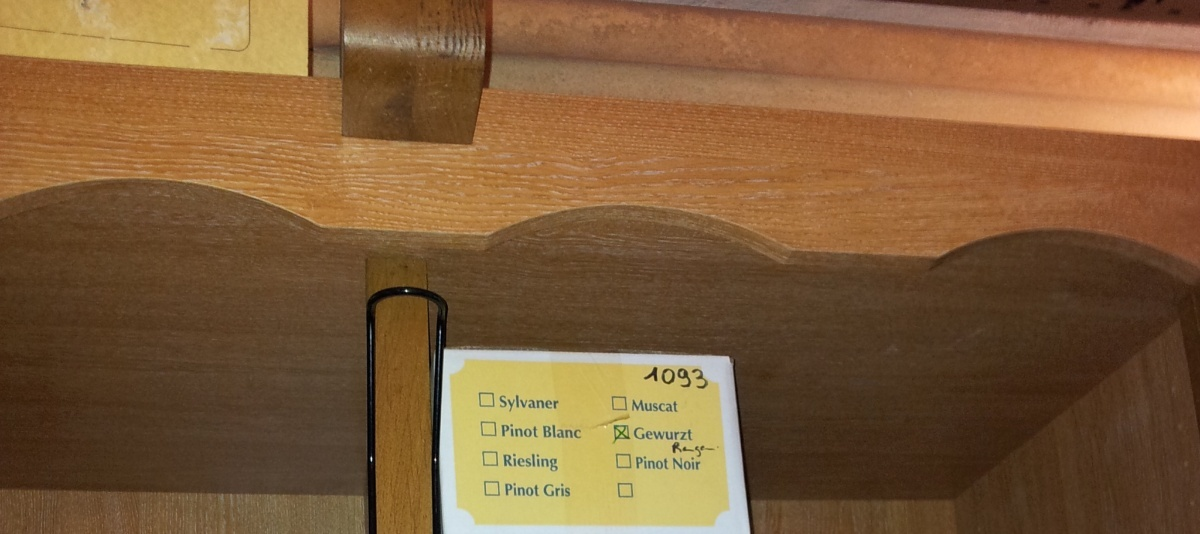text: (657, 366, 672, 391), (673, 366, 688, 391), (689, 366, 704, 391), (545, 393, 561, 413), (513, 452, 528, 472), (529, 452, 544, 472), (545, 452, 560, 472), (513, 393, 528, 413), (529, 393, 544, 413), (641, 423, 656, 443), (657, 423, 672, 443), (673, 423, 688, 443), (673, 454, 688, 472), (499, 393, 512, 413), (673, 441, 688, 458), (689, 441, 704, 458), (646, 366, 656, 391), (513, 423, 528, 439), (513, 482, 528, 498), (545, 482, 560, 498), (641, 455, 656, 471), (641, 399, 656, 414), (657, 399, 672, 414), (545, 425, 560, 440), (561, 425, 576, 440), (705, 441, 718, 458), (689, 454, 701, 472), (657, 455, 670, 471), (529, 482, 541, 498), (503, 452, 512, 472), (631, 423, 640, 443), (501, 423, 512, 439), (529, 423, 540, 439), (561, 482, 572, 498), (689, 423, 696, 443), (504, 482, 512, 498), (705, 366, 710, 391), (632, 399, 640, 414), (673, 399, 680, 414), (577, 425, 582, 440), (636, 455, 640, 471), (669, 454, 672, 472), (542, 425, 544, 440), (671, 441, 672, 458)
